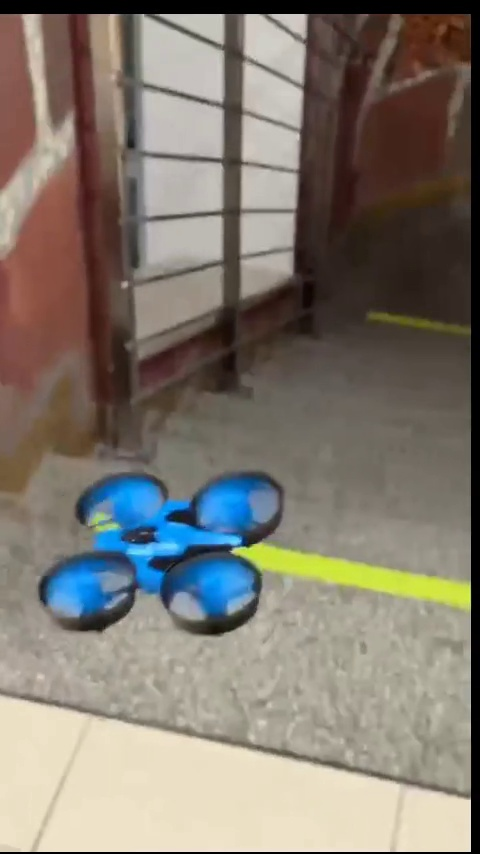drone: (38, 476, 283, 637)
